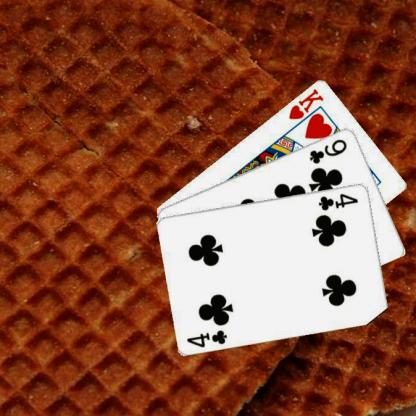4C: (184, 326, 229, 348), (316, 190, 360, 212)
9C: (306, 136, 348, 165)
KH: (286, 86, 325, 121)
